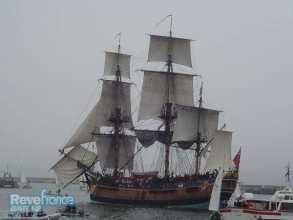fanchuan: (51, 23, 243, 201)
